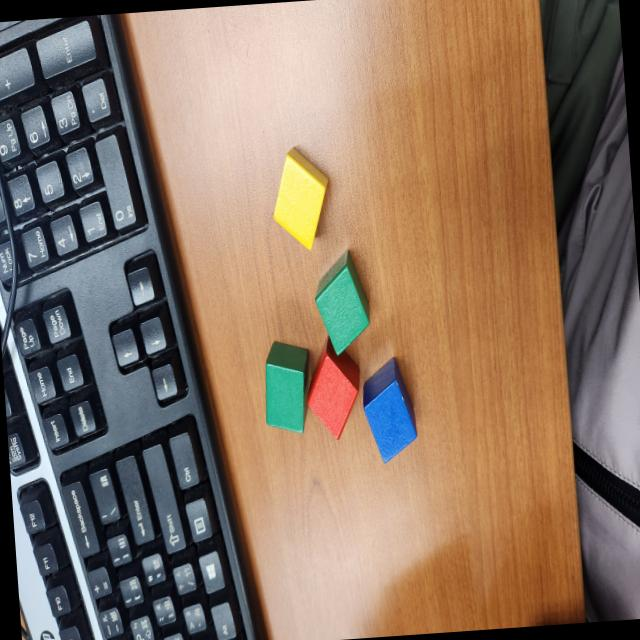blue: (362, 355, 415, 463)
green: (310, 248, 372, 357), (259, 336, 315, 436)
red: (299, 334, 364, 442)
yellow: (266, 144, 334, 256)
